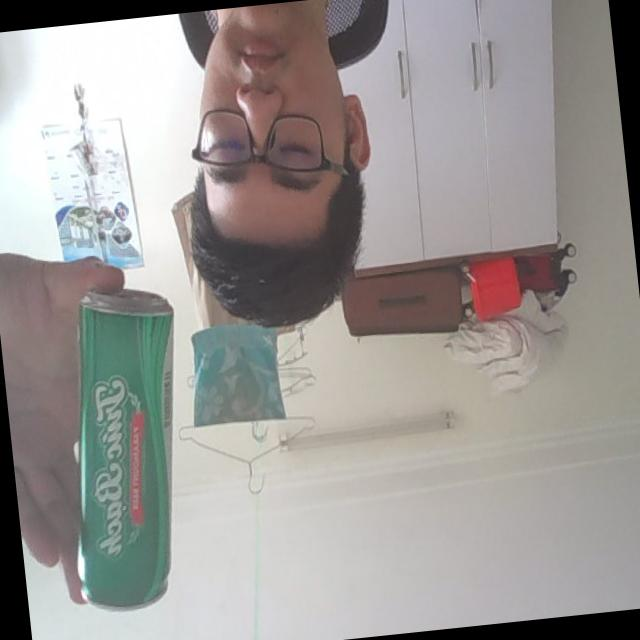Bia-Truc-Bach: (50, 280, 204, 617)
